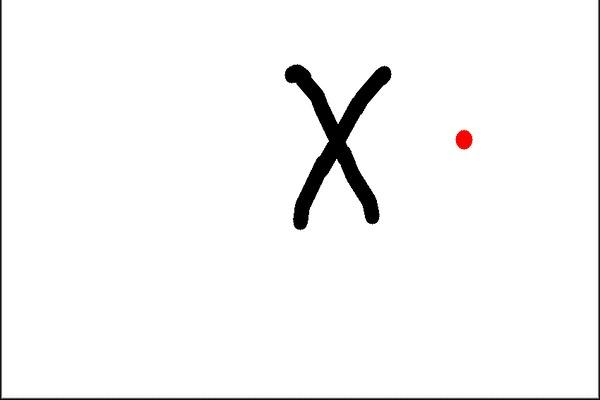Z: (260, 48, 404, 251)
